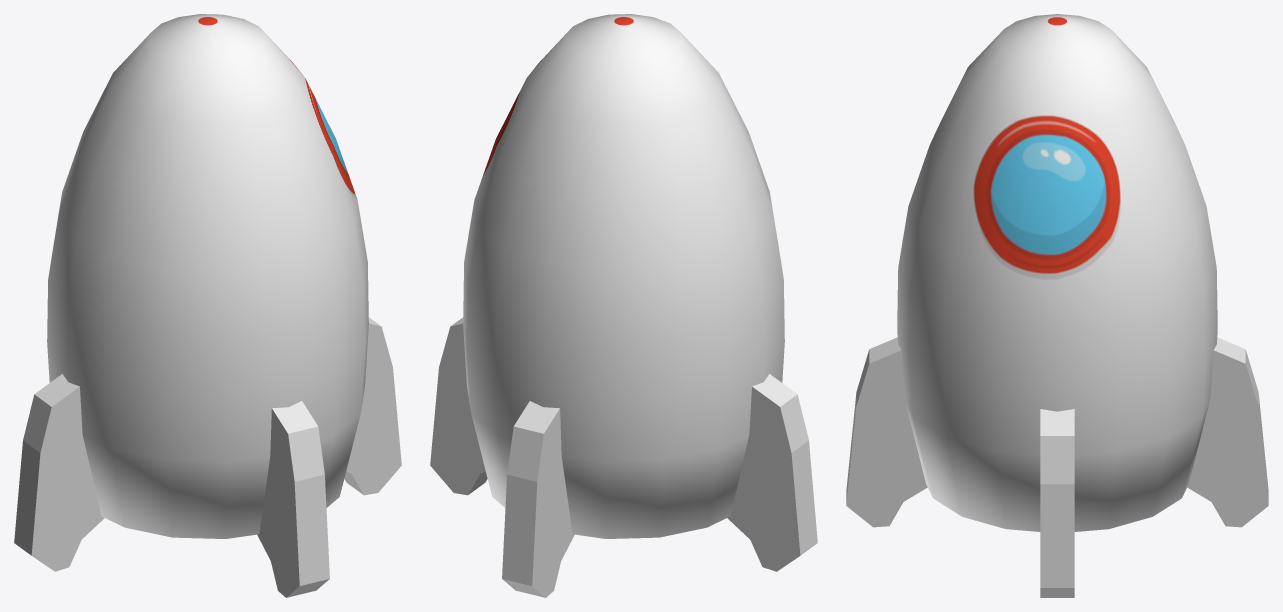
Rendered from Rocket.fbx.
The picture shows the model from 3 angles, left to right: view 1: azimuth 30°, elevation 25°; view 2: azimuth 150°, elevation 25°; view 3: azimuth 270°, elevation 25°; orthographic projection.
Parts seen in each view (by area): view 1: Cylinder, Cylinder.001, Cylinder.002, Cylinder.004; view 2: Cylinder, Cylinder.001, Cylinder.003, Cylinder.004; view 3: Cylinder, Cylinder.003, Cylinder.002, Cylinder.004.
Part boxes in pixels (left/top/right/bottom): Cylinder: left=47, top=14, right=368, bottom=538; Cylinder.001: left=14, top=374, right=104, bottom=571; Cylinder.002: left=257, top=401, right=329, bottom=597; Cylinder.004: left=344, top=317, right=401, bottom=495; Cylinder: left=463, top=14, right=784, bottom=538; Cylinder.001: left=727, top=374, right=817, bottom=571; Cylinder.003: left=502, top=401, right=574, bottom=597; Cylinder.004: left=430, top=317, right=487, bottom=495; Cylinder: left=897, top=14, right=1217, bottom=531; Cylinder.003: left=1187, top=337, right=1268, bottom=527; Cylinder.002: left=846, top=337, right=927, bottom=527; Cylinder.004: left=1040, top=409, right=1074, bottom=597.
Bounding box in the file's own units: 165 × 215 × 165.
